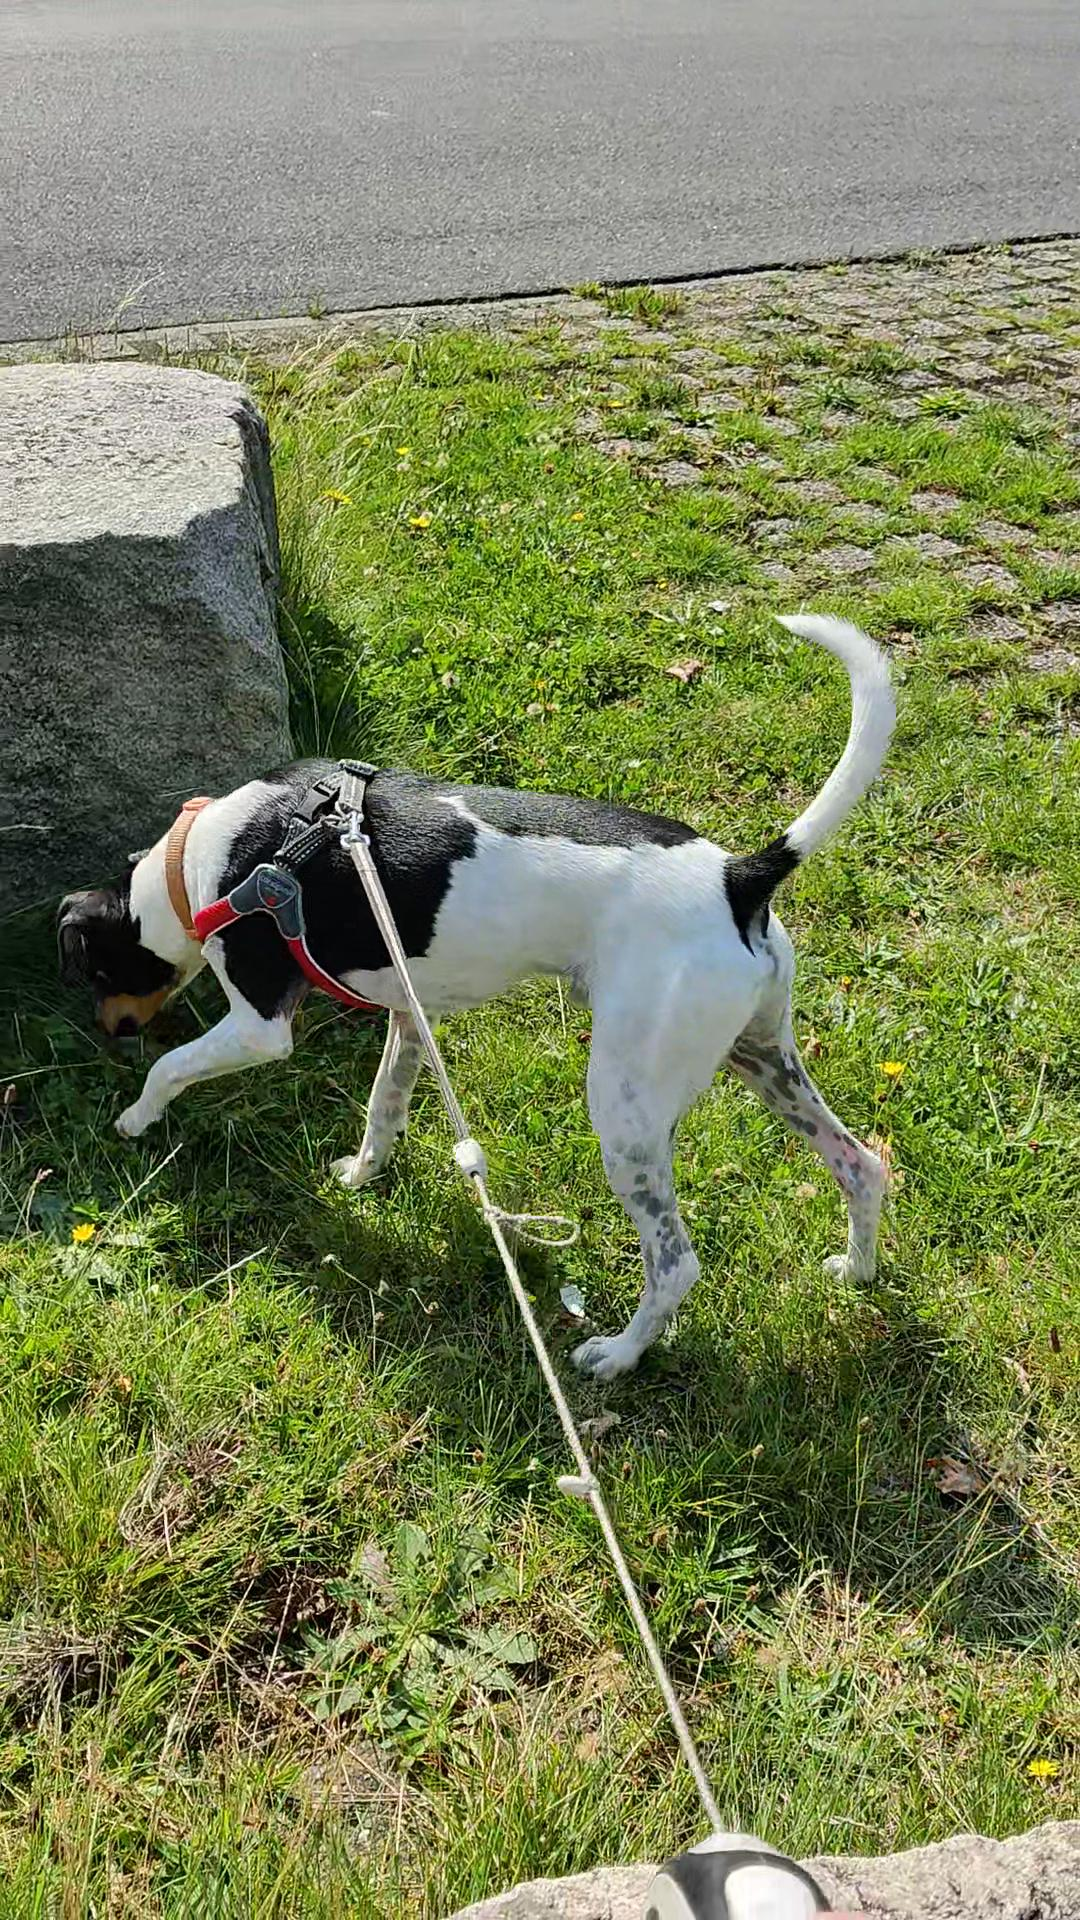Dog: (32, 580, 922, 1396)
